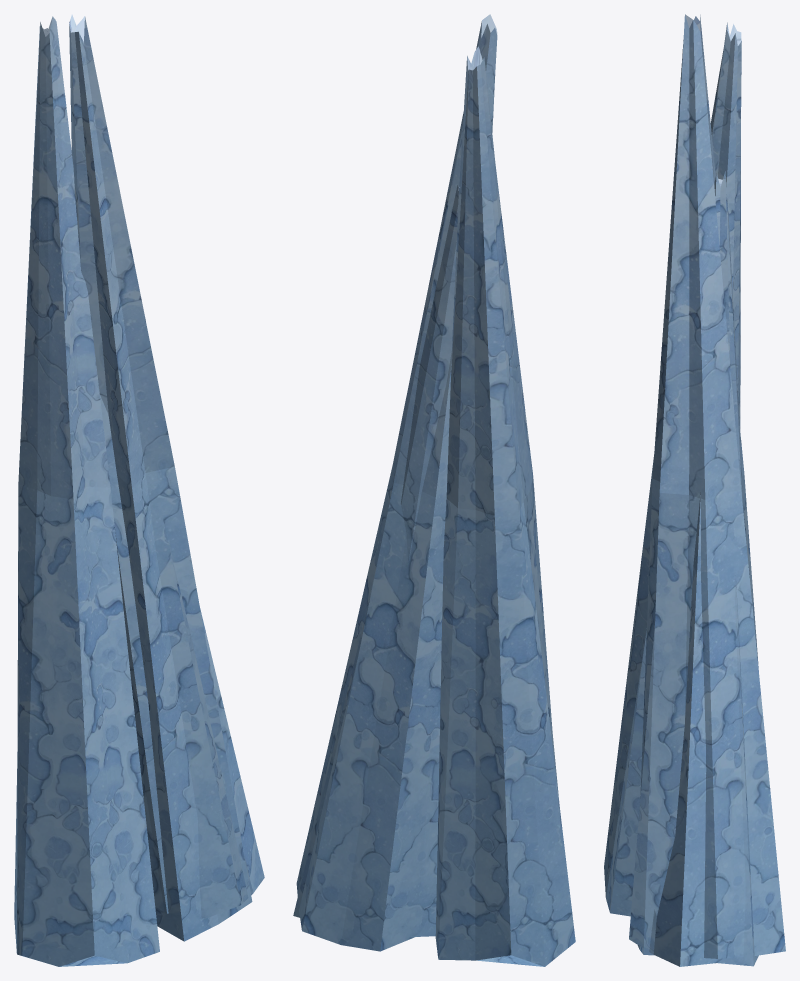
The model's file is ice_spire_b.glb.
3 renders of one model, left to right at view 1: azimuth 30°, elevation 25°; view 2: azimuth 150°, elevation 25°; view 3: azimuth 270°, elevation 25°, orthographic. The views are drawn at different scales.
Visible parts, largest first — view 1: ice_spire_b; view 2: ice_spire_b; view 3: ice_spire_b.
Part boxes in pixels (box(x1,y1,x2,y2)): ice_spire_b: box(14, 14, 264, 966); ice_spire_b: box(293, 14, 575, 966); ice_spire_b: box(604, 14, 785, 966).
Size of the model in its own units: 4.02 by 14.21 by 2.62.
Materials: 1 (1 with a texture image).
